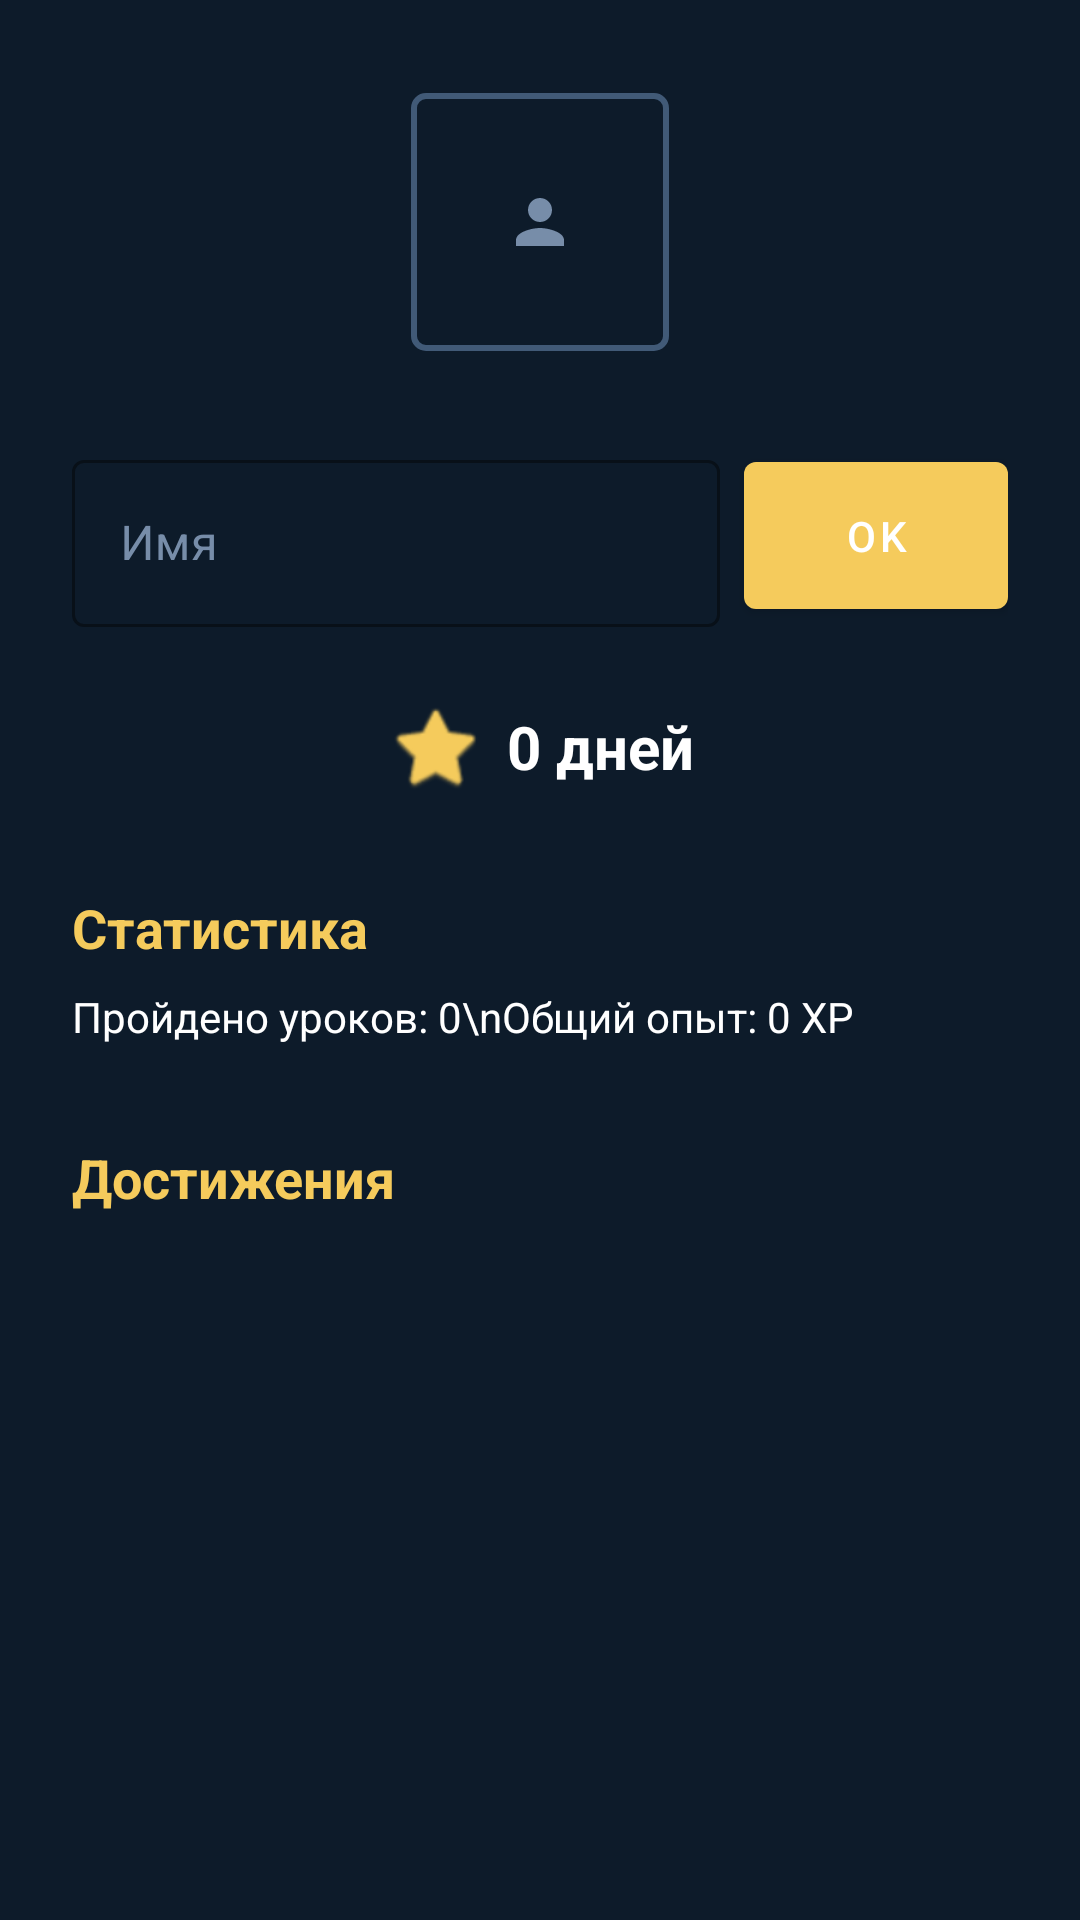

Icons on this 1080x1920 Android screen, each with its box as (left=x1, top=y1, right=x2, bottom=y2):
star on: (left=396, top=709, right=476, bottom=787)
